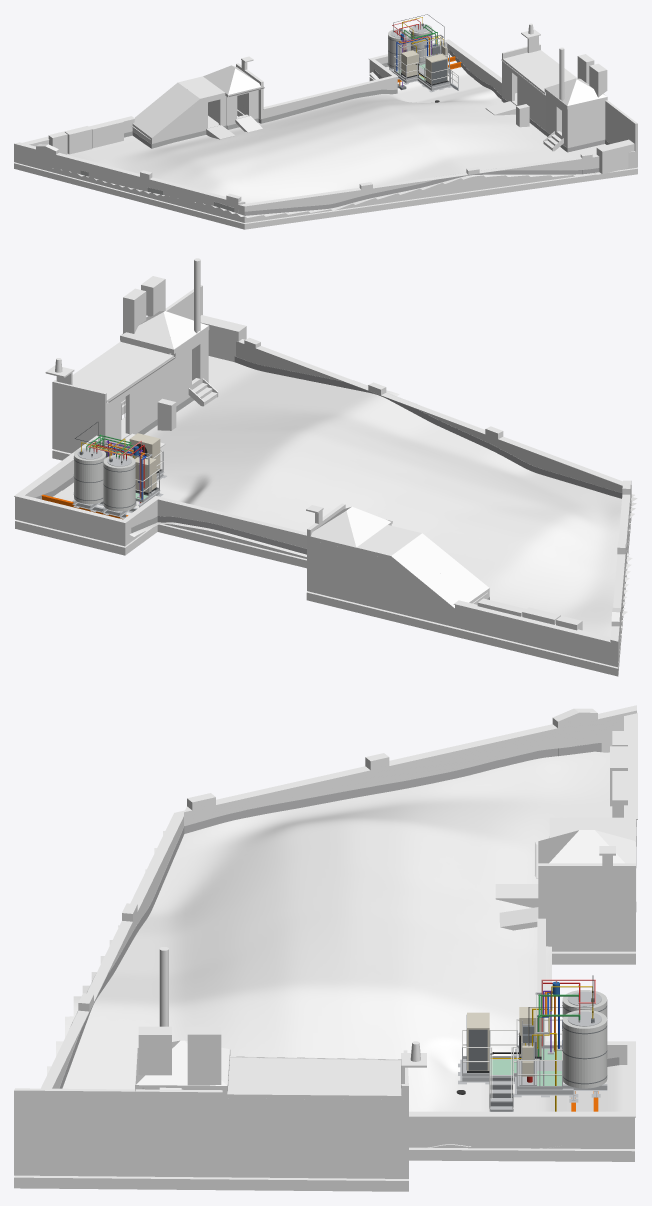
Rendered from option_megaq.glb.
3 views of the same model, one above another, from view 1: azimuth 30°, elevation 25°; view 2: azimuth 150°, elevation 25°; view 3: azimuth 270°, elevation 25° (orthographic). The views are drawn at different scales.
Parts seen in each view (by area): view 1: EXIST_main_roof_deck, EXIST_parapet_IFC_Wall_024, EXIST_parapet_IFC_Wall_017, EXIST_stair_bulkhead_NORTH_back_IFC_Slab_028, EXIST_flashing_membrane_upturn, EXIST_stair_bulkhead_EAST_right_IFC_WallStandardCase_005, EXIST_stair_bulkhead_EAST_right_IFC_Slab_033, EXIST_stair_bulkhead_EAST_right_IFC_WallStandardCase_007, EXIST_stair_bulkhead_EAST_right_IFC_WallStandardCase_004, EXIST_parapet_IFC_WallStandardCase_023, EXIST_stair_bulkhead_NORTH_back_IFC_WallStandardCase_016, EXIST_stair_bulkhead_NORTH_back_IFC_Slab_013 (+23 smaller); view 2: EXIST_main_roof_deck, EXIST_stair_bulkhead_NORTH_back_IFC_Slab_028, EXIST_parapet_IFC_Wall_024, EXIST_flashing_membrane_upturn, EXIST_stair_bulkhead_NORTH_back_IFC_WallStandardCase_025, EXIST_parapet_IFC_Wall_018, EXIST_stair_bulkhead_EAST_right_IFC_WallStandardCase_003, EXIST_stair_bulkhead_EAST_right_IFC_WallStandardCase_007, EXIST_stair_bulkhead_EAST_right_IFC_Slab_033, EXIST_stair_bulkhead_NORTH_back_IFC_WallStandardCase_011, EXIST_parapet_IFC_WallStandardCase_020, EXIST_parapet_IFC_WallStandardCase_023 (+22 smaller); view 3: EXIST_main_roof_deck, EXIST_stair_bulkhead_EAST_right_IFC_WallStandardCase_004, EXIST_stair_bulkhead_EAST_right_IFC_WallStandardCase_010, EXIST_parapet_IFC_Wall_017, EXIST_stair_bulkhead_NORTH_back_IFC_Slab_028, EXIST_parapet_IFC_WallStandardCase_022, EXIST_stair_bulkhead_EAST_right_IFC_Slab_033, EXIST_stair_bulkhead_NORTH_back_IFC_Wall_002, EXIST_flashing_membrane_upturn, EXIST_parapet_IFC_Wall_024, C_tank2_TES2, EXIST_stair_bulkhead_NORTH_back_IFC_Roof_012 (+14 smaller).
Part boxes in pixels (left/top/right/bottom): EXIST_main_roof_deck: left=52, top=53, right=605, bottom=217; EXIST_parapet_IFC_Wall_024: left=238, top=151, right=635, bottom=222; EXIST_parapet_IFC_Wall_017: left=14, top=142, right=245, bottom=221; EXIST_stair_bulkhead_NORTH_back_IFC_Slab_028: left=14, top=76, right=637, bottom=229; EXIST_flashing_membrane_upturn: left=80, top=49, right=610, bottom=215; EXIST_stair_bulkhead_EAST_right_IFC_WallStandardCase_005: left=566, top=101, right=605, bottom=151; EXIST_stair_bulkhead_EAST_right_IFC_Slab_033: left=503, top=50, right=577, bottom=94; EXIST_stair_bulkhead_EAST_right_IFC_WallStandardCase_007: left=503, top=62, right=545, bottom=130; EXIST_stair_bulkhead_EAST_right_IFC_WallStandardCase_004: left=605, top=100, right=637, bottom=167; EXIST_parapet_IFC_WallStandardCase_023: left=263, top=78, right=394, bottom=118; EXIST_stair_bulkhead_NORTH_back_IFC_WallStandardCase_016: left=150, top=99, right=208, bottom=144; EXIST_stair_bulkhead_NORTH_back_IFC_Slab_013: left=132, top=99, right=200, bottom=140; EXIST_main_roof_deck: left=53, top=356, right=637, bottom=637; EXIST_stair_bulkhead_NORTH_back_IFC_Slab_028: left=15, top=403, right=631, bottom=676; EXIST_parapet_IFC_Wall_024: left=236, top=337, right=631, bottom=507; EXIST_flashing_membrane_upturn: left=35, top=356, right=631, bottom=612; EXIST_stair_bulkhead_NORTH_back_IFC_WallStandardCase_025: left=356, top=551, right=457, bottom=627; EXIST_parapet_IFC_Wall_018: left=455, top=605, right=610, bottom=665; EXIST_stair_bulkhead_EAST_right_IFC_WallStandardCase_003: left=52, top=381, right=106, bottom=453; EXIST_stair_bulkhead_EAST_right_IFC_WallStandardCase_007: left=107, top=357, right=175, bottom=450; EXIST_stair_bulkhead_EAST_right_IFC_Slab_033: left=72, top=341, right=173, bottom=399; EXIST_stair_bulkhead_NORTH_back_IFC_WallStandardCase_011: left=310, top=540, right=356, bottom=602; EXIST_parapet_IFC_WallStandardCase_020: left=19, top=498, right=120, bottom=545; EXIST_parapet_IFC_WallStandardCase_023: left=157, top=500, right=306, bottom=558; EXIST_main_roof_deck: left=47, top=751, right=627, bottom=1148; EXIST_stair_bulkhead_EAST_right_IFC_WallStandardCase_004: left=14, top=1088, right=222, bottom=1177; EXIST_stair_bulkhead_EAST_right_IFC_WallStandardCase_010: left=222, top=1098, right=405, bottom=1178; EXIST_parapet_IFC_Wall_017: left=184, top=705, right=636, bottom=825; EXIST_stair_bulkhead_NORTH_back_IFC_Slab_028: left=14, top=752, right=636, bottom=1191; EXIST_parapet_IFC_WallStandardCase_022: left=409, top=1117, right=634, bottom=1148; EXIST_stair_bulkhead_EAST_right_IFC_Slab_033: left=227, top=1057, right=405, bottom=1099; EXIST_stair_bulkhead_NORTH_back_IFC_Wall_002: left=551, top=863, right=635, bottom=951; EXIST_flashing_membrane_upturn: left=59, top=742, right=619, bottom=1088; EXIST_parapet_IFC_Wall_024: left=41, top=810, right=184, bottom=1088; C_tank2_TES2: left=562, top=1010, right=607, bottom=1088; EXIST_stair_bulkhead_NORTH_back_IFC_Roof_012: left=538, top=830, right=635, bottom=879.
Size of what is drawn, in the model's own units: 116 by 25.27 by 69.82.
